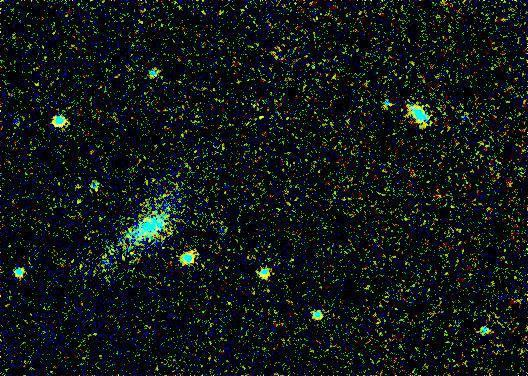star: (245, 104, 275, 134)
